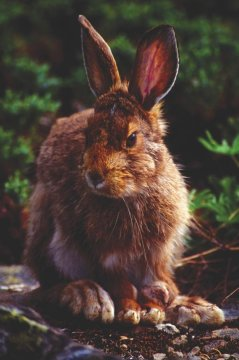bunny: (18, 9, 202, 330)
